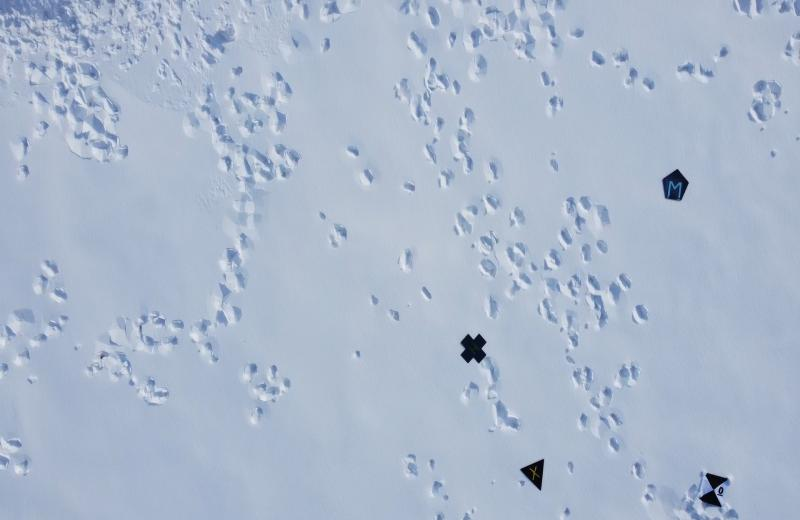Cross: (460, 333, 489, 366)
Pentagon: (662, 168, 691, 205)
Triangle: (521, 458, 551, 492)
